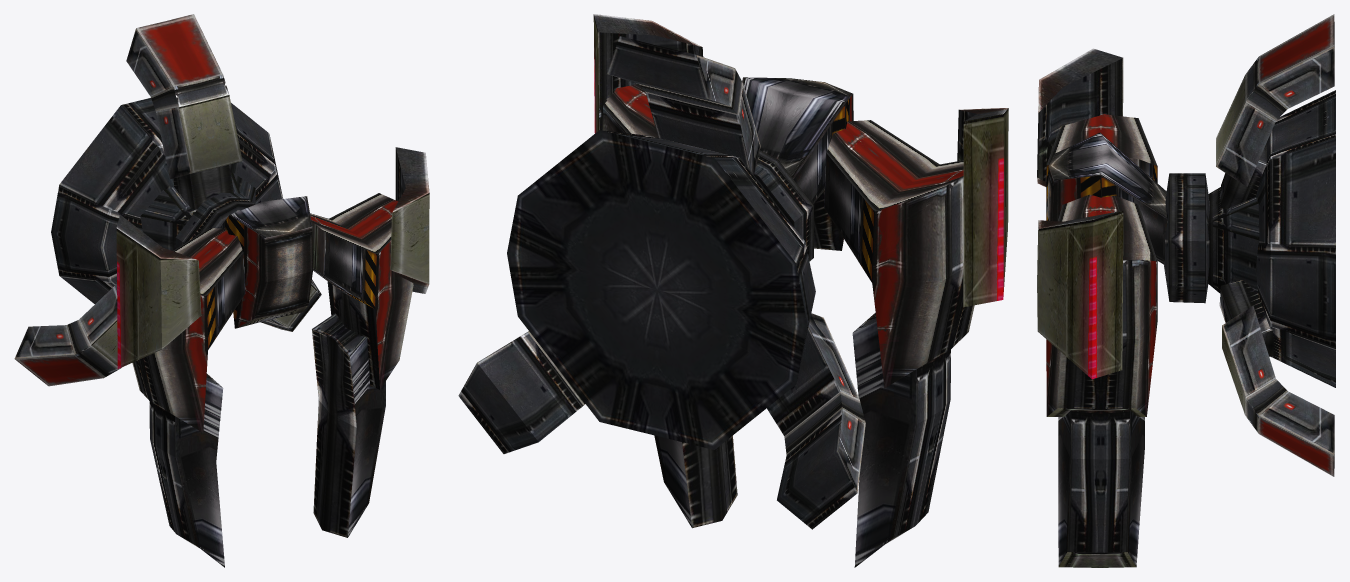
Rendered from turret-09.obj.
3 views of the same model, side by side, from view 1: azimuth 30°, elevation 25°; view 2: azimuth 150°, elevation 25°; view 3: azimuth 270°, elevation 25° (orthographic). The views are drawn at different scales.
Visible parts, largest first — view 1: body, gun_01, gun_02, head; view 2: body, gun_02, head, gun_01; view 3: body, gun_01, head, gun_02.
Part boxes in pixels (x1=…): body: x1=14, y1=14, x2=321, y2=386; gun_01: x1=310, y1=147, x2=429, y2=537; gun_02: x1=116, y1=214, x2=245, y2=567; head: x1=175, y1=192, x2=312, y2=328; body: x1=458, y1=36, x2=865, y2=529; gun_02: x1=824, y1=108, x2=1008, y2=567; head: x1=742, y1=77, x2=853, y2=261; gun_01: x1=593, y1=14, x2=737, y2=528; body: x1=1207, y1=14, x2=1335, y2=476; gun_01: x1=1037, y1=194, x2=1157, y2=567; head: x1=1047, y1=132, x2=1209, y2=303; gun_02: x1=1037, y1=48, x2=1157, y2=220.
Size of the model in its own units: 4.81 by 6.64 by 3.54.
Materials: 1 (1 with a texture image).
